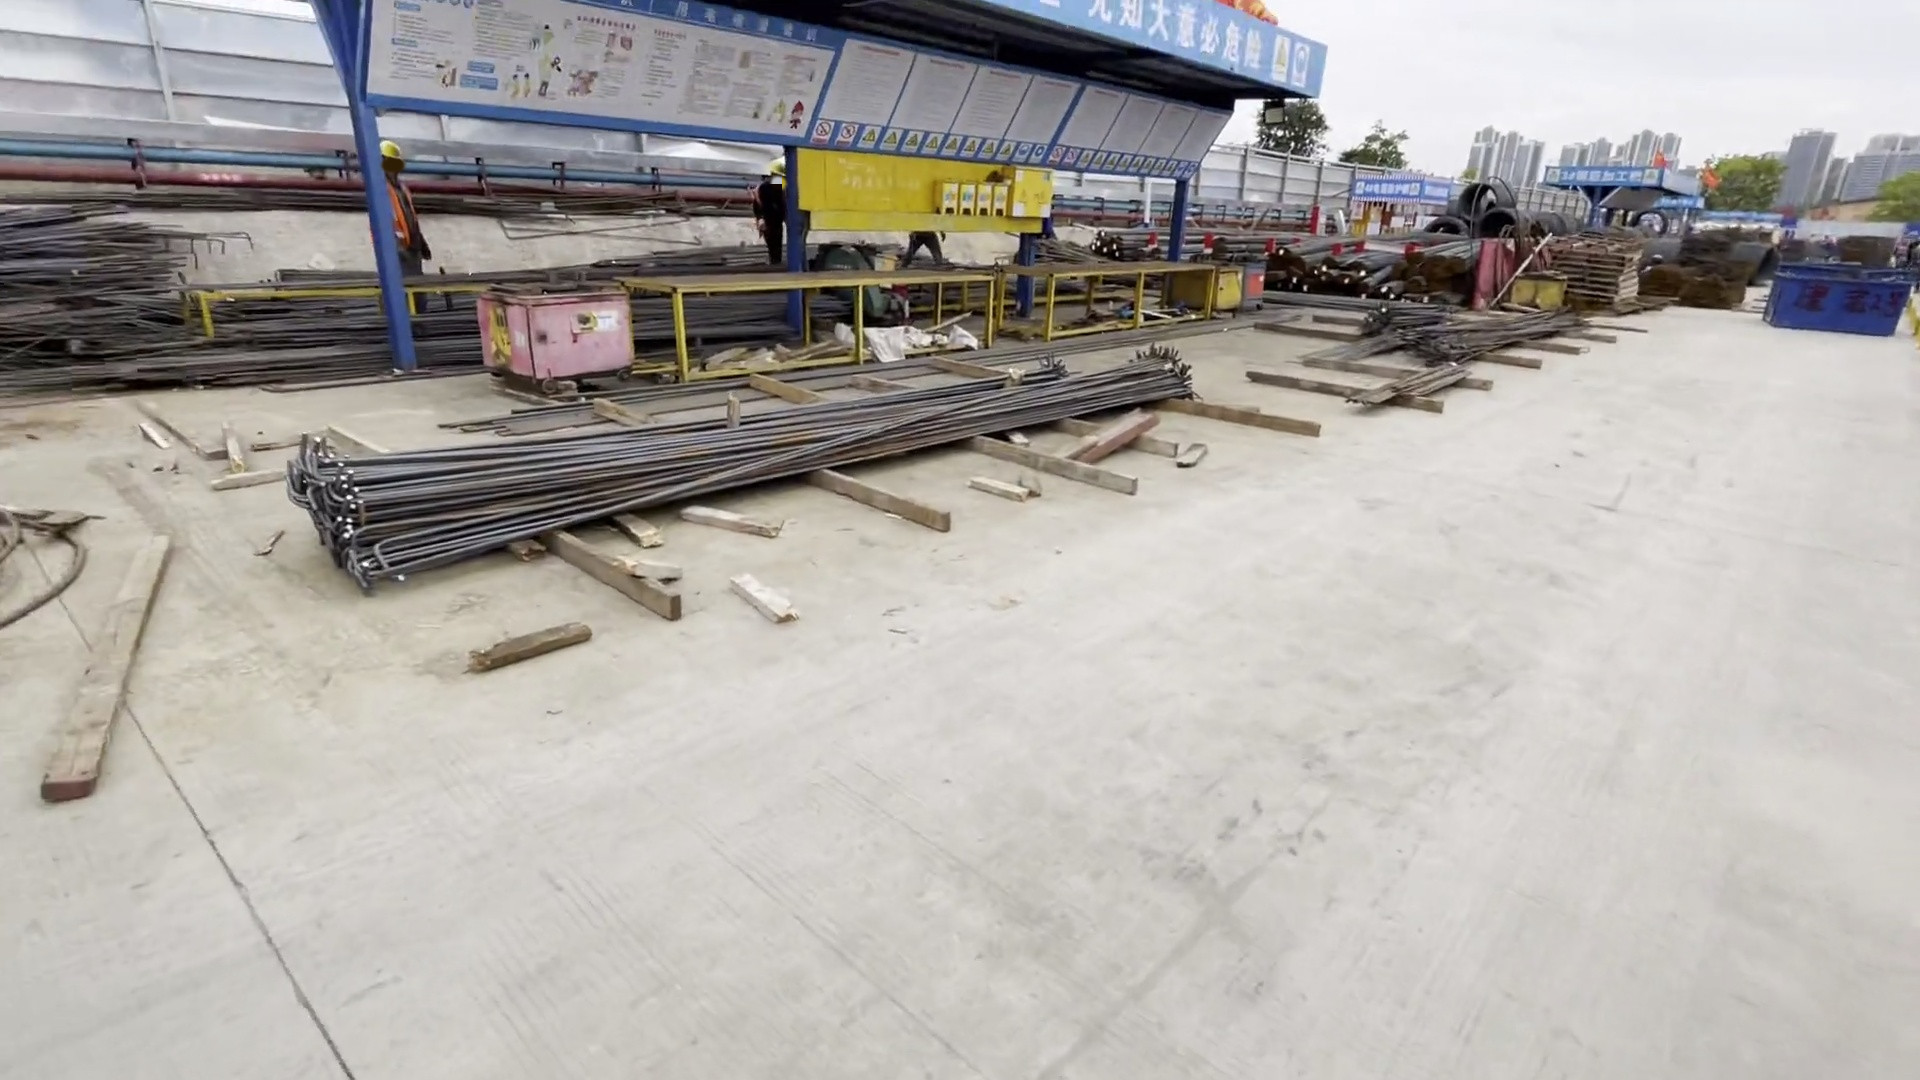ebox: (893, 160, 1058, 223)
helmet: (377, 141, 401, 157)
hopper: (1759, 264, 1920, 344)
person: (369, 144, 421, 286)
rebar: (249, 351, 1200, 594), (201, 254, 903, 337), (1, 208, 226, 381), (1334, 297, 1593, 418), (1084, 230, 1462, 293)
slogan: (358, 1, 1345, 184)
vest: (387, 186, 426, 251)
